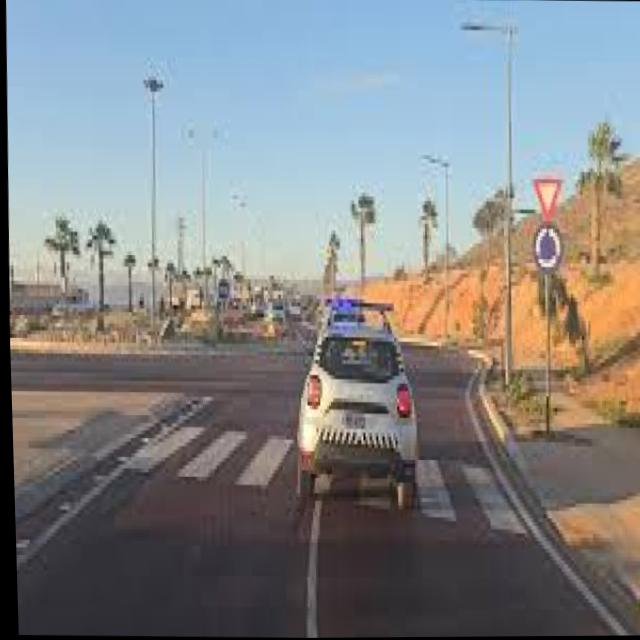gendarme car: (286, 289, 424, 519)
